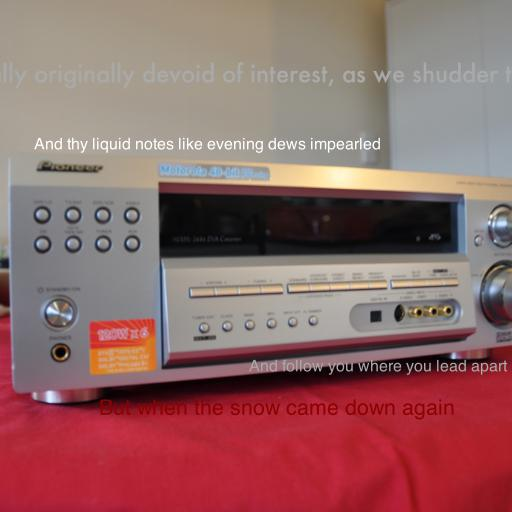Big Caslon: (249, 359, 507, 375)
Futura: (0, 62, 512, 89)
Impact: (99, 399, 455, 420)
SF Pro: (33, 137, 381, 153)
